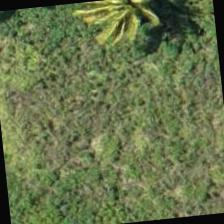Kelapa_Sawit: (71, 0, 168, 62)
